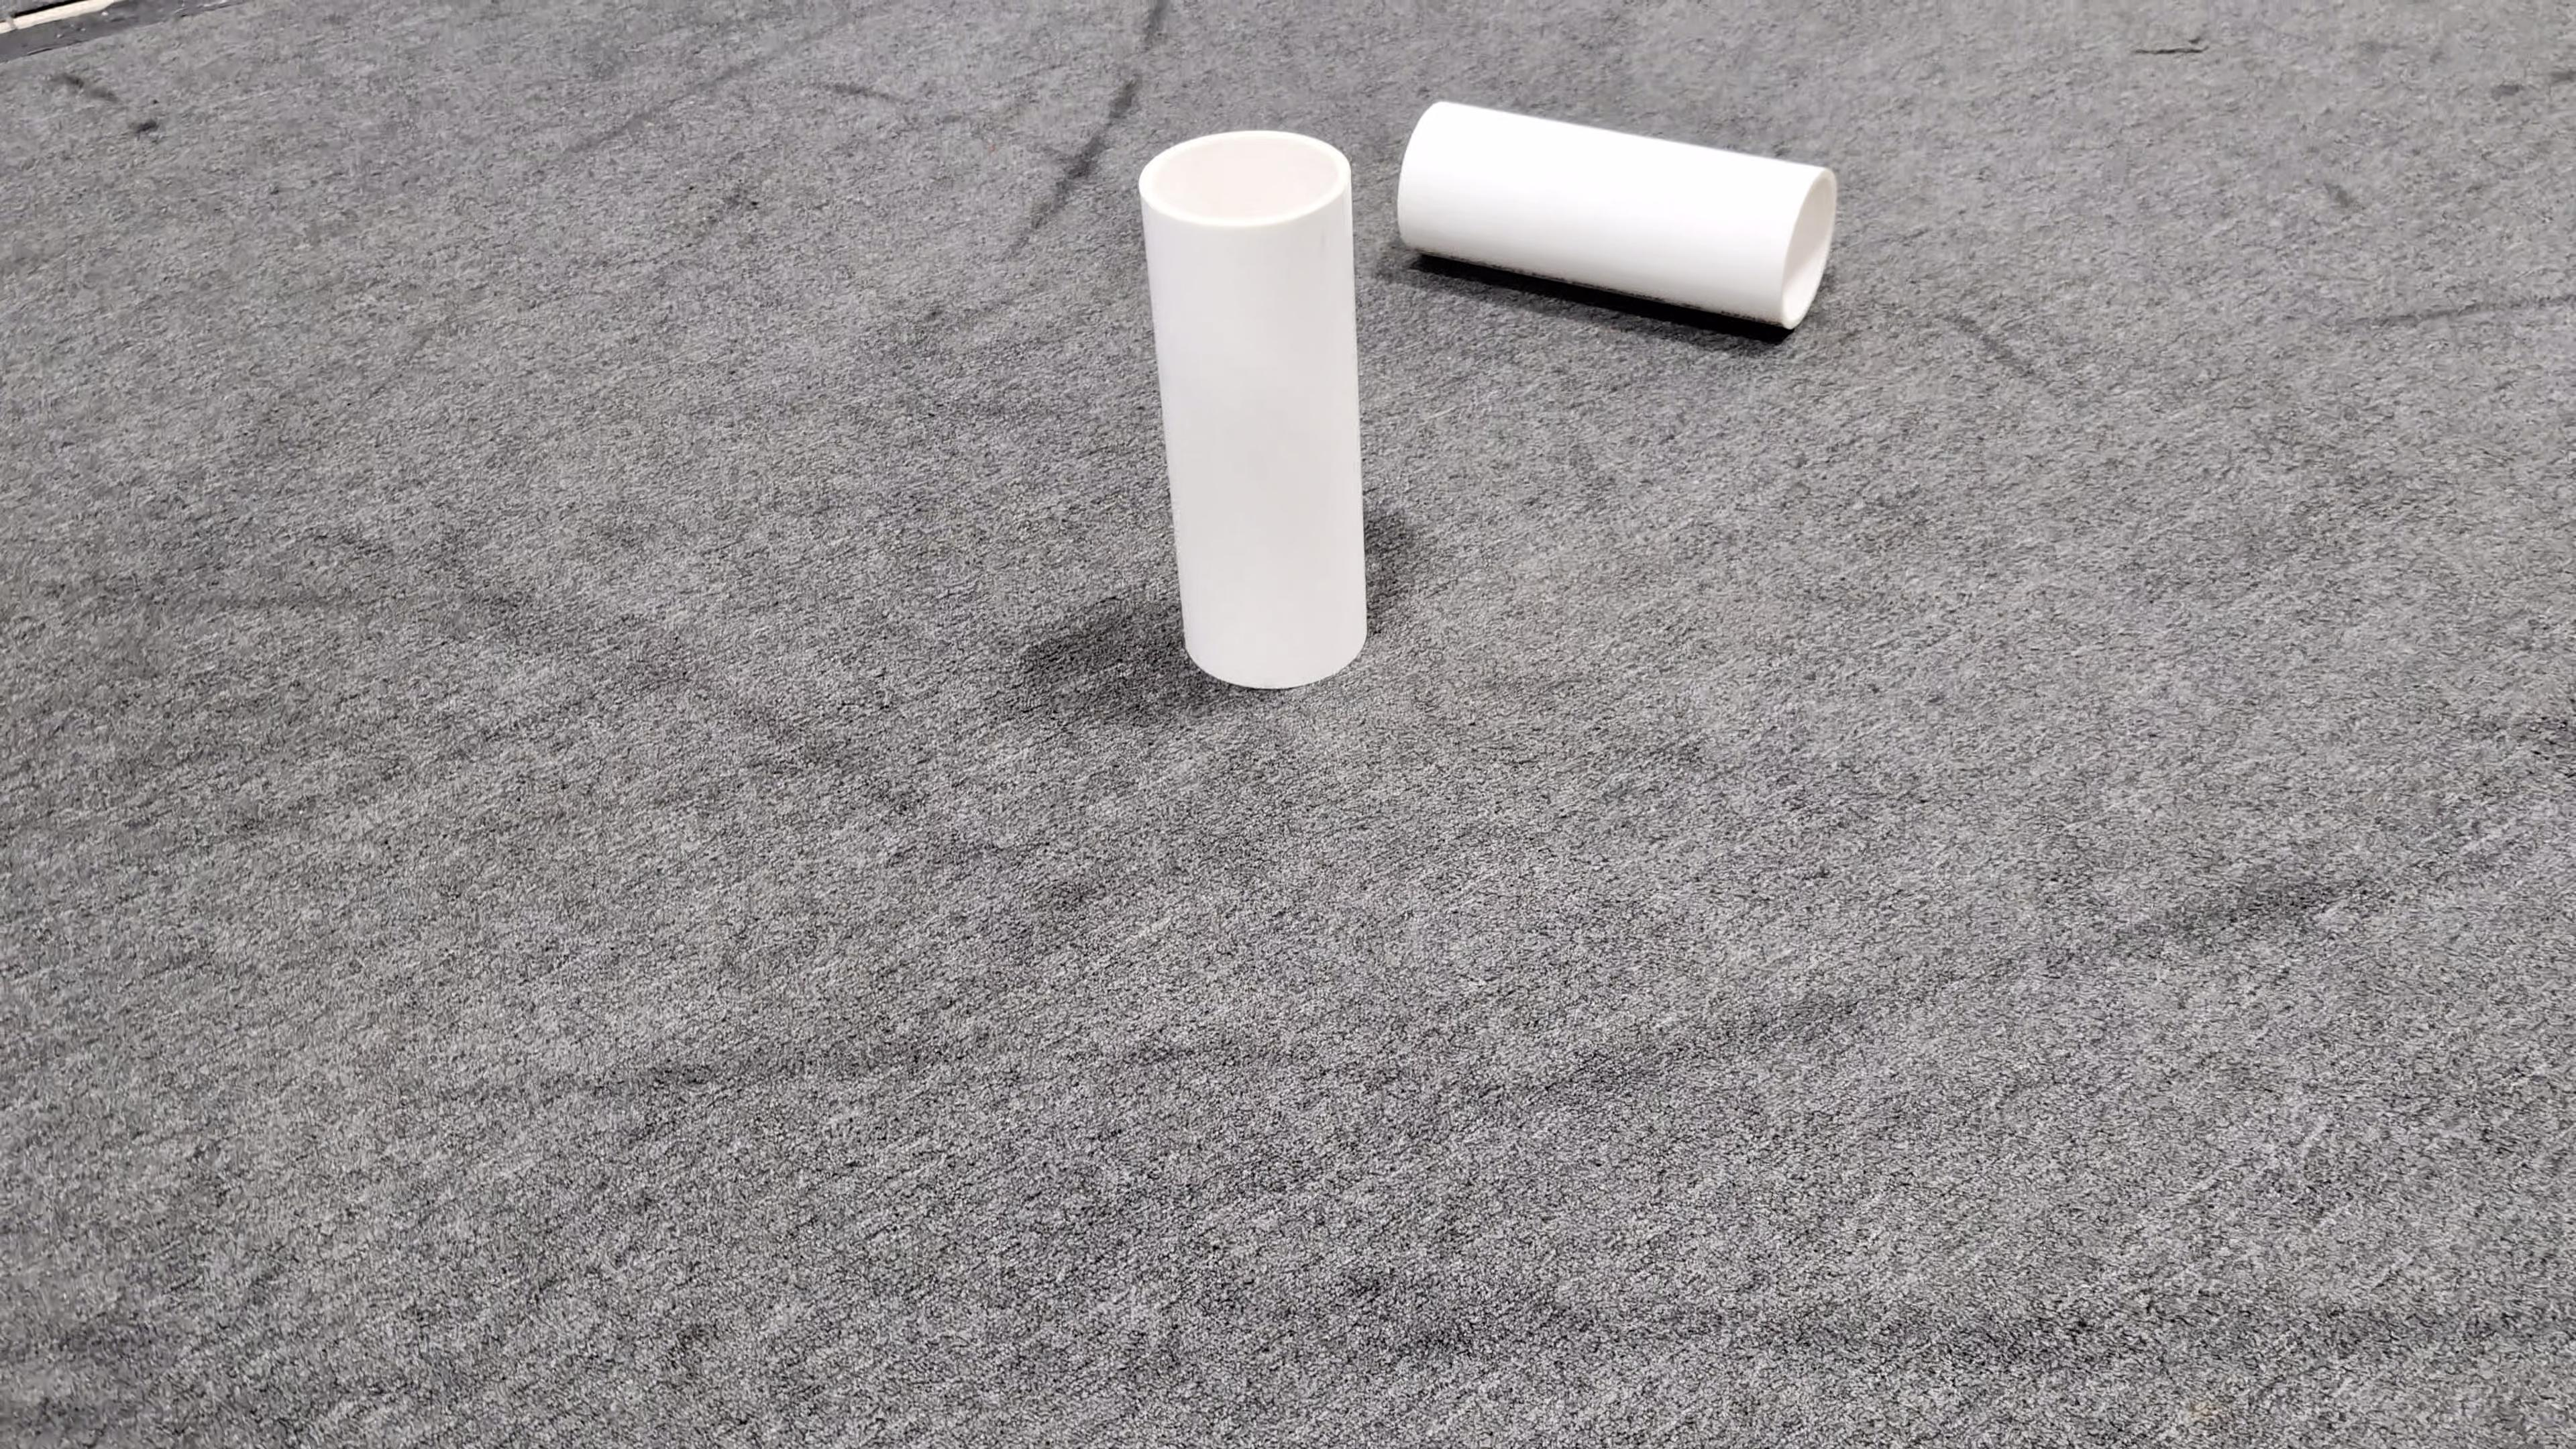coral: (1134, 127, 1369, 686), (1396, 96, 1840, 329)
